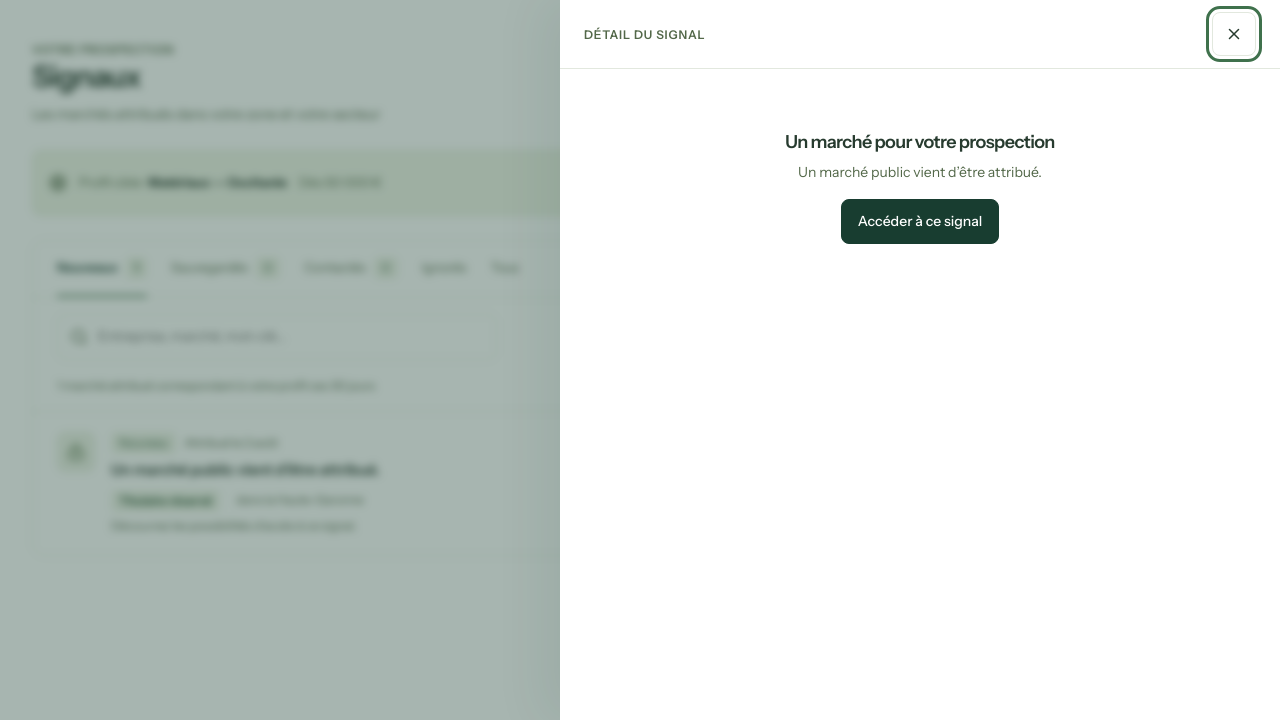
Test: promesse du paywall › ne promet pas l’ensemble du flux — FR
The width and height of the screenshot is (1280, 720).
Click the button "Accéder à ce signal" at (920, 221), box [841, 199, 999, 244]
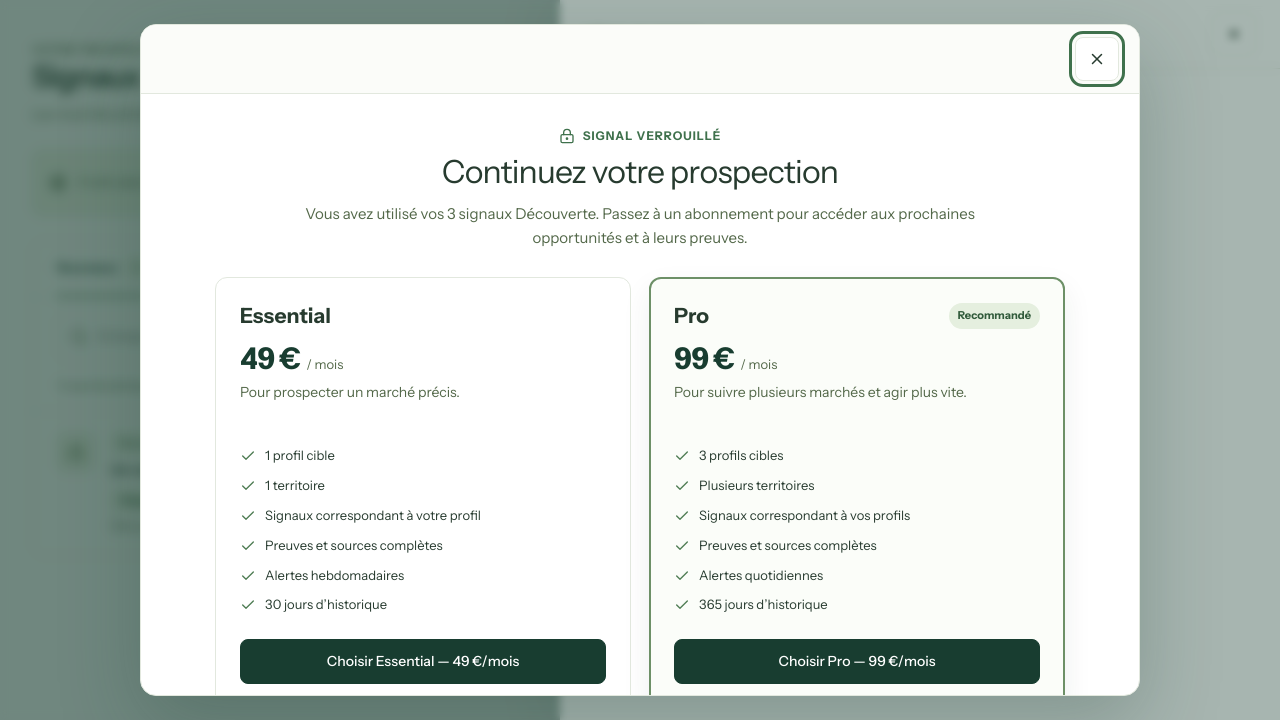
Expected: the heading "Continuez votre prospection" is shown, [442, 152, 838, 191]
Expected: the text "365 jours d’historique" is shown, [674, 596, 828, 613]
